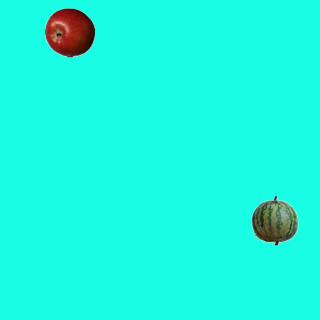Apple Braeburn: (44, 7, 94, 57)
Watermelon: (249, 195, 299, 245)
